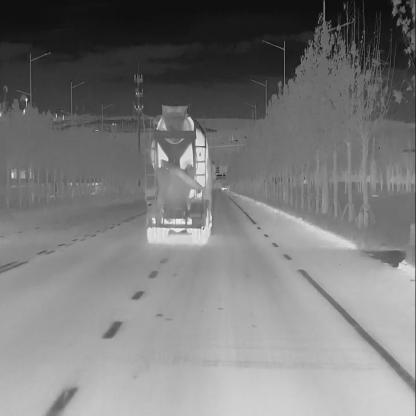car: (140, 98, 219, 251)
